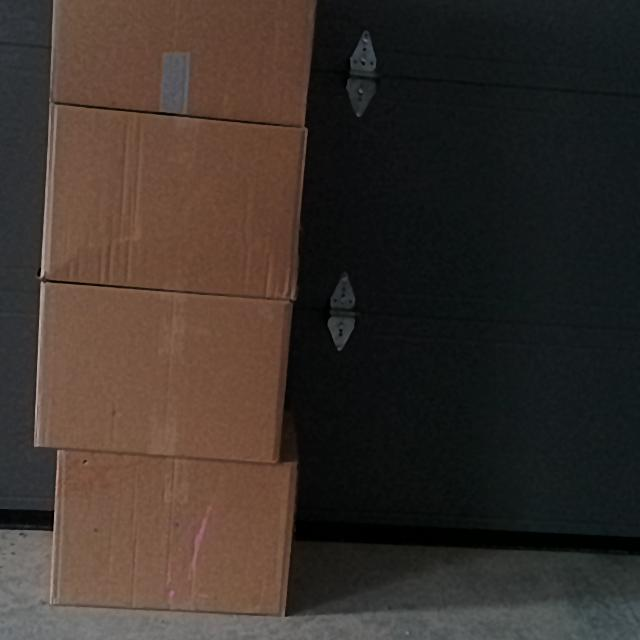box: (52, 110, 305, 287), (42, 288, 289, 455), (50, 457, 291, 610), (54, 0, 304, 113)
